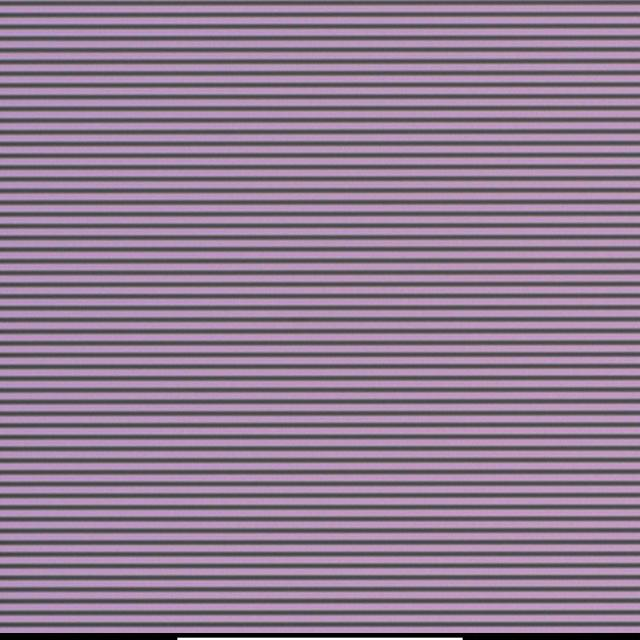nonvisual: (318, 313, 325, 326)
